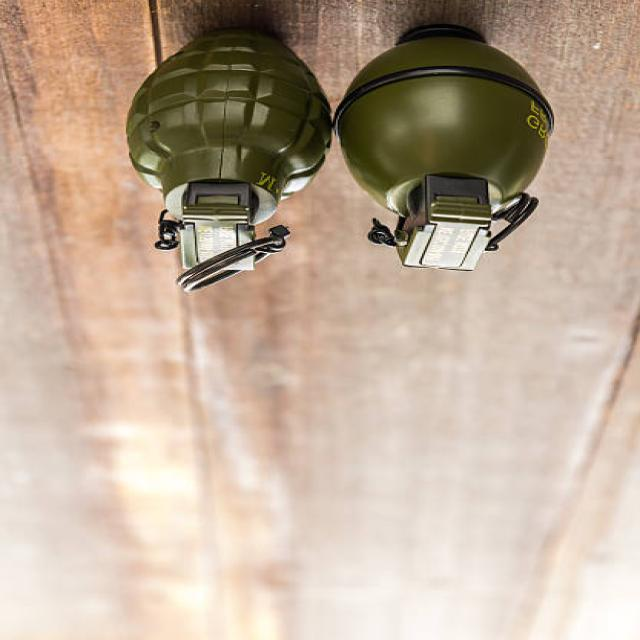grenade: (114, 27, 341, 295), (333, 22, 568, 275)
